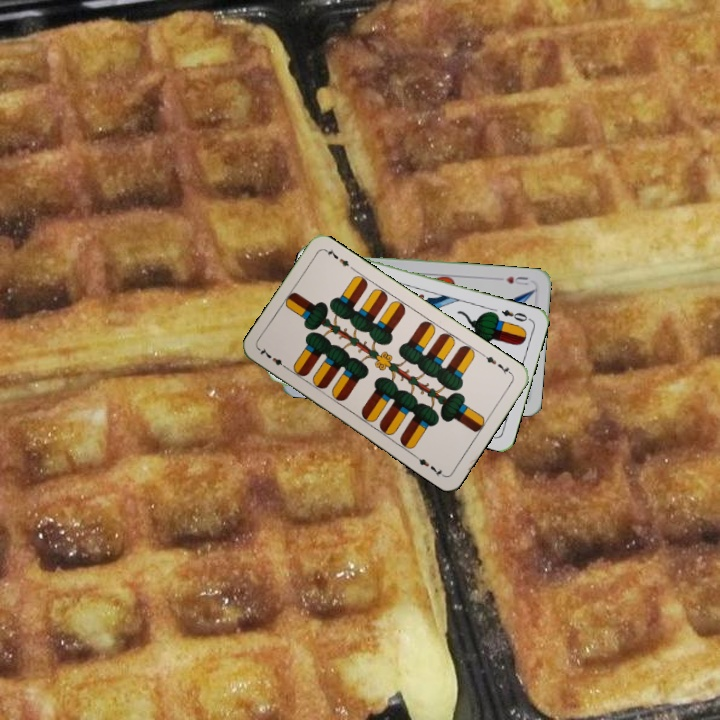E7: (478, 350, 515, 377), (256, 344, 291, 372)
EO: (497, 306, 533, 324)
HU: (502, 272, 531, 288)
